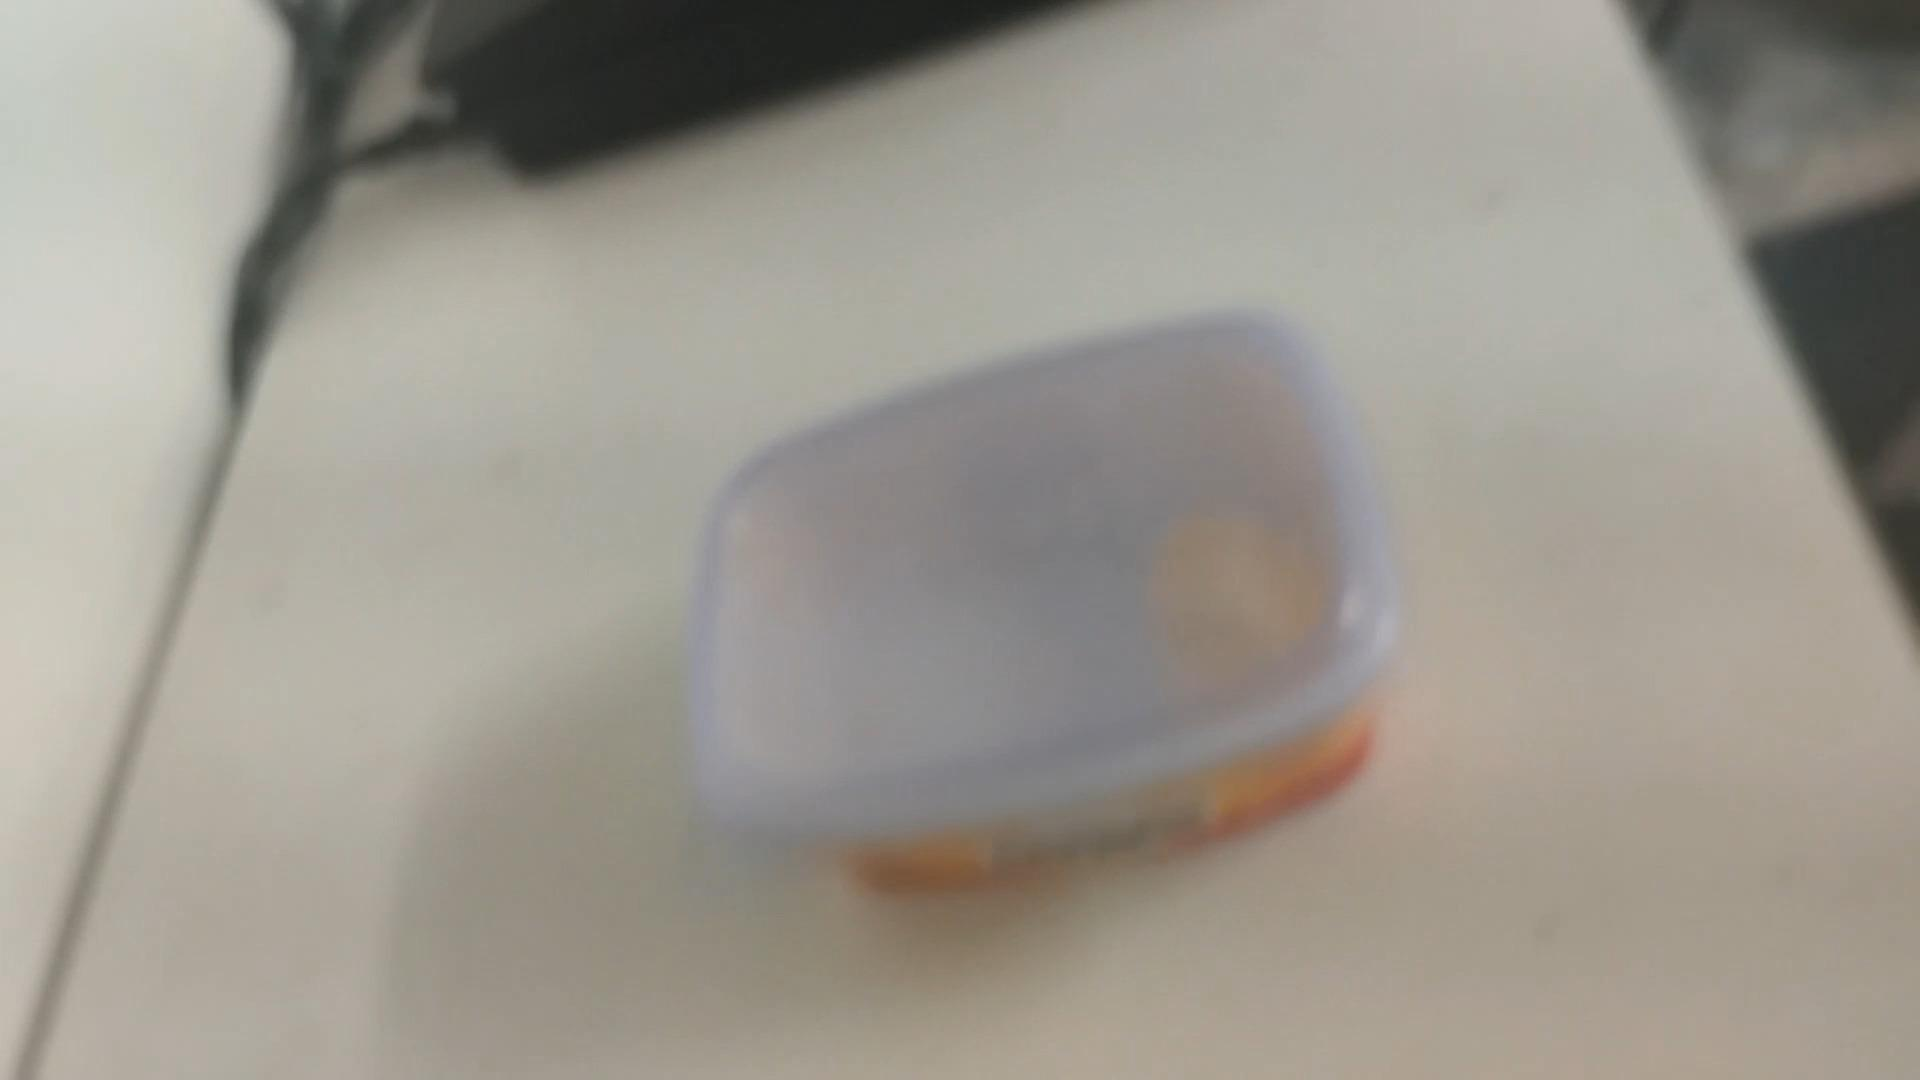butter: (674, 294, 1419, 910)
